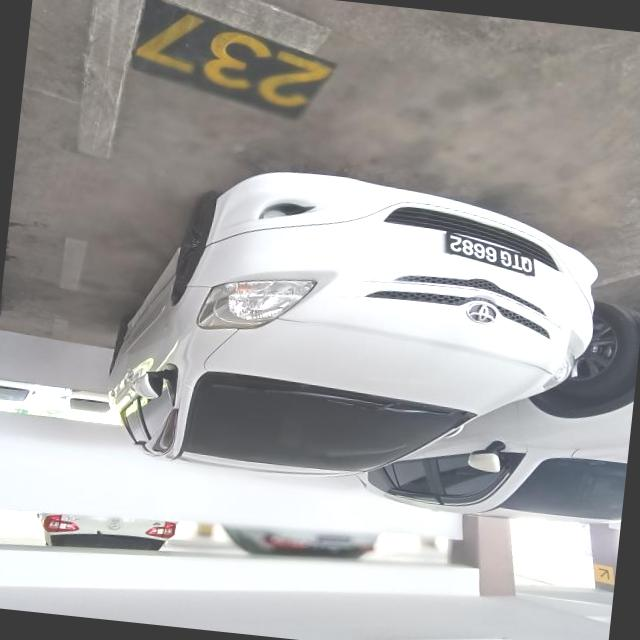ToyotaVios: (97, 153, 608, 507)
